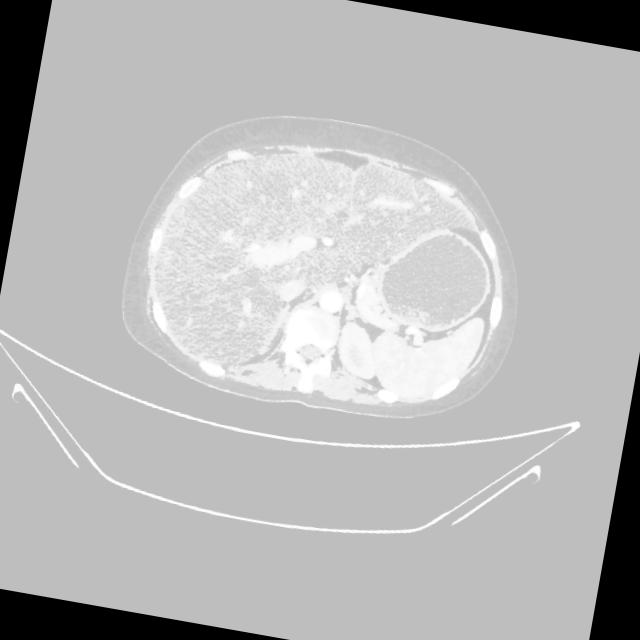NORMAL: (75, 38, 556, 439)
